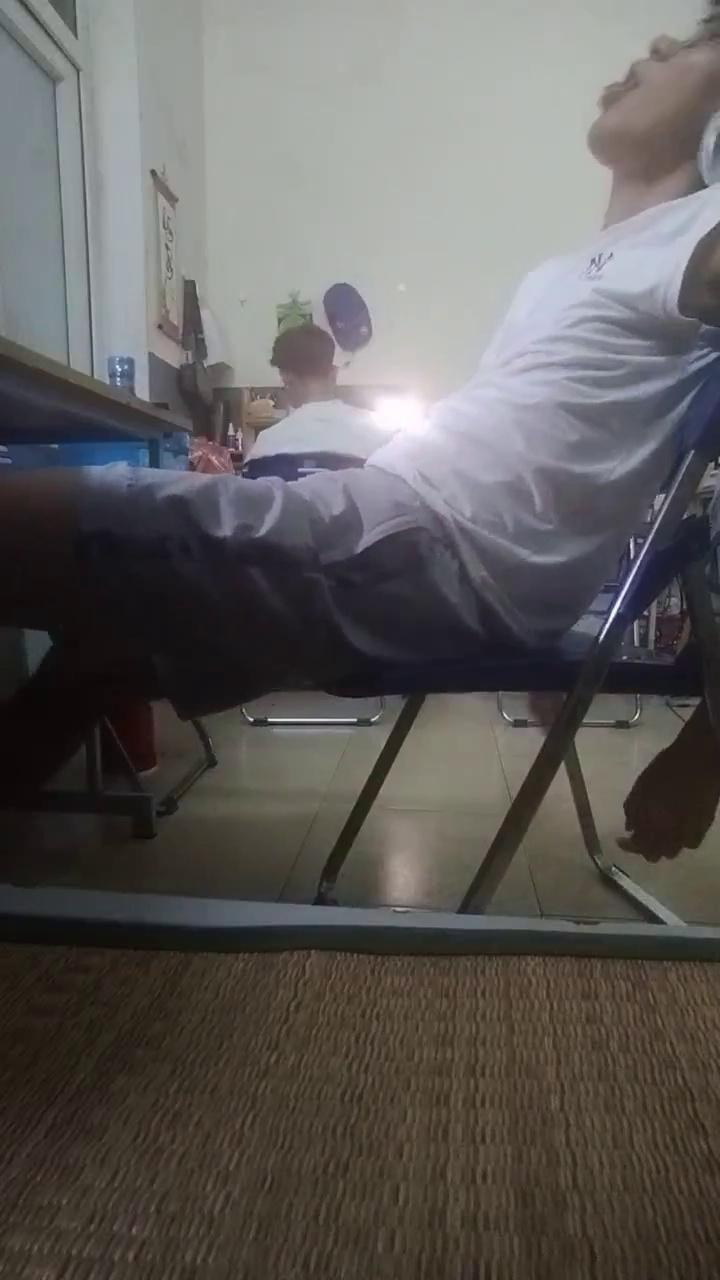BadPosture: (0, 15, 719, 802)
